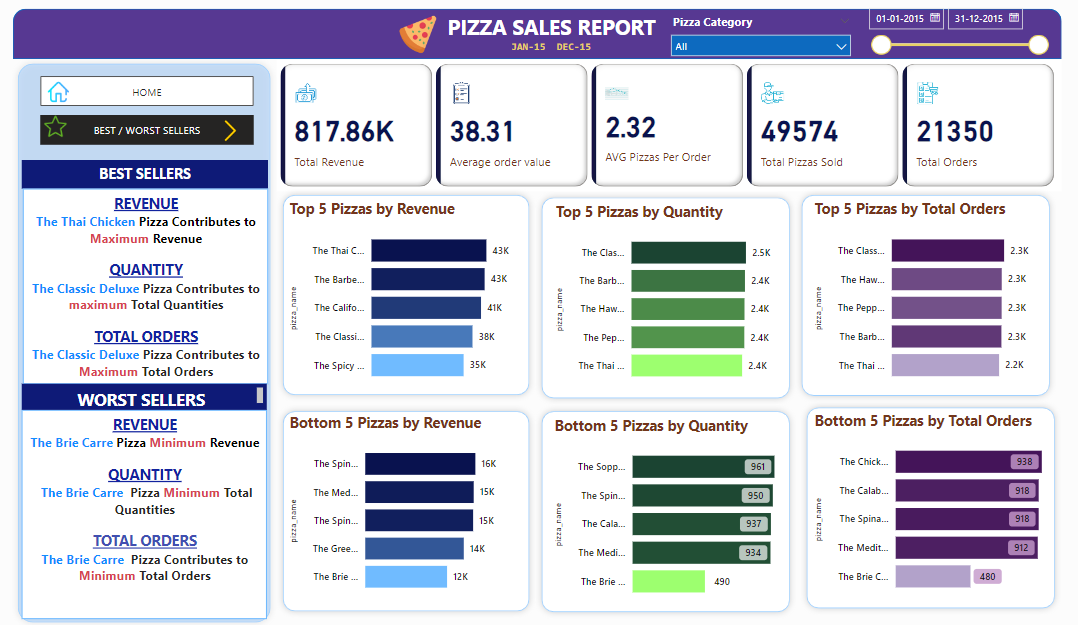

What the dashboard file says about the page in this screenshot:
{"tool":"powerbi","page":{"name":"BEST / WORST SELLERS","canvas":[1500,820],"ordinal":1},"visuals":[{"type":"shape","box":[75.6,74,340.9,734.9],"z":0},{"type":"cardVisual","fields":{"Data":["pizza_sales.Total Revenue","pizza_sales.Average order value","pizza_sales.AVG Pizzas Per Order","pizza_sales.Total Pizzas Sold","pizza_sales.Total Orders"]},"box":[416.5,77.2,1009.9,168.8],"z":1000},{"type":"shape","box":[76.5,11.8,1349,64.7],"z":2000},{"type":"textbox","box":[613.6,11.4,311.4,45.5],"z":3000},{"type":"textbox","box":[680.7,44.3,178.4,34.1],"z":4000},{"type":"image","box":[551.1,14.8,93.2,59.1],"z":5000},{"type":"shape","box":[416.5,242.8,332.9,273.4],"z":6000},{"type":"textbox","box":[88.4,205.8,316.8,37],"z":12000},{"type":"textbox","box":[90.1,242.8,315.2,250.9],"z":17000},{"type":"textbox","box":[88.4,527.4,315.2,268.5],"z":18000},{"type":"textbox","box":[88.4,493.7,315.2,33.8],"z":19000},{"type":"slicer","fields":{"Values":["pizza_sales.pizza_category"]},"box":[913.3,12.5,252,62.6],"z":20000},{"type":"slicer","fields":{"Values":["pizza_sales.order_date"]},"box":[1165.3,0,252,73.8],"z":21000},{"type":"shape","box":[748.6,246,335.1,274.5],"z":21001},{"type":"shape","box":[1083.7,242.4,335.1,274.5],"z":21002},{"type":"shape","box":[416.5,521,332.9,273.4],"z":21003},{"type":"shape","box":[748.6,520.4,335.1,274.5],"z":21004},{"type":"shape","box":[1090.8,516.9,335.1,274.5],"z":21005},{"type":"barChart","title":"Top 5 Pizzas by Revenue","fields":{"Category":["pizza_sales.pizza_name"],"Y":["pizza_sales.Total Revenue"]},"box":[427.7,255.7,320,249.3],"z":21006},{"type":"barChart","title":"Bottom 5 Pizzas by Revenue","fields":{"Category":["pizza_sales.pizza_name"],"Y":["pizza_sales.Total Revenue"]},"box":[427.7,530.7,289.5,246],"z":21007},{"type":"barChart","title":"Top 5 Pizzas by Quantity","fields":{"Category":["pizza_sales.pizza_name"],"Y":["pizza_sales.Total Pizzas Sold"]},"box":[770.3,258.9,287.8,246],"z":21009},{"type":"barChart","title":"Bottom 5 Pizzas by Quantity","fields":{"Category":["pizza_sales.pizza_name"],"Y":["pizza_sales.Total Pizzas Sold"]},"box":[768.7,533.9,300.7,249.3],"z":21010},{"type":"barChart","title":"Top 5 Pizzas by Total Orders","fields":{"Category":["pizza_sales.pizza_name"],"Y":["pizza_sales.Total Orders"]},"box":[1103.1,255.7,295.9,249.3],"z":21011},{"type":"barChart","title":"Bottom 5 Pizzas by Total Orders","fields":{"Category":["pizza_sales.pizza_name"],"Y":["pizza_sales.Total Orders"]},"box":[1103.1,527.4,315.2,249.3],"z":21012},{"type":"pageNavigator","box":[112.6,147.9,275,38.6],"z":21013},{"type":"pageNavigator","box":[112.6,98.1,275,38.6],"z":21014},{"type":"image","box":[326.4,149.6,61.1,37],"z":21015},{"type":"image","box":[86.8,99.7,98.1,37],"z":21016},{"type":"image","box":[112.6,136.7,38.6,51.5],"z":21017}]}

Visuals, with their boxes on the page's 1500x820 design canvas (x1, y1, x2, y2). These are canvas units, not pixel positions in the 1078x625 screenshot, which may show the page scaled, cropped or inside an application window:
shape: (x1=76, y1=74, x2=416, y2=809)
cardVisual - pizza_sales.Total Revenue x pizza_sales.Average order value: (x1=416, y1=77, x2=1426, y2=246)
shape: (x1=76, y1=12, x2=1426, y2=76)
textbox: (x1=614, y1=11, x2=925, y2=57)
textbox: (x1=681, y1=44, x2=859, y2=78)
image: (x1=551, y1=15, x2=644, y2=74)
shape: (x1=416, y1=243, x2=749, y2=516)
textbox: (x1=88, y1=206, x2=405, y2=243)
textbox: (x1=90, y1=243, x2=405, y2=494)
textbox: (x1=88, y1=527, x2=404, y2=796)
textbox: (x1=88, y1=494, x2=404, y2=528)
slicer - pizza_sales.pizza_category: (x1=913, y1=12, x2=1165, y2=75)
slicer - pizza_sales.order_date: (x1=1165, y1=0, x2=1417, y2=74)
shape: (x1=749, y1=246, x2=1084, y2=520)
shape: (x1=1084, y1=242, x2=1419, y2=517)
shape: (x1=416, y1=521, x2=749, y2=794)
shape: (x1=749, y1=520, x2=1084, y2=795)
shape: (x1=1091, y1=517, x2=1426, y2=791)
"Top 5 Pizzas by Revenue" barChart: (x1=428, y1=256, x2=748, y2=505)
"Bottom 5 Pizzas by Revenue" barChart: (x1=428, y1=531, x2=717, y2=777)
"Top 5 Pizzas by Quantity" barChart: (x1=770, y1=259, x2=1058, y2=505)
"Bottom 5 Pizzas by Quantity" barChart: (x1=769, y1=534, x2=1069, y2=783)
"Top 5 Pizzas by Total Orders" barChart: (x1=1103, y1=256, x2=1399, y2=505)
"Bottom 5 Pizzas by Total Orders" barChart: (x1=1103, y1=527, x2=1418, y2=777)
pageNavigator: (x1=113, y1=148, x2=388, y2=186)
pageNavigator: (x1=113, y1=98, x2=388, y2=137)
image: (x1=326, y1=150, x2=388, y2=187)
image: (x1=87, y1=100, x2=185, y2=137)
image: (x1=113, y1=137, x2=151, y2=188)
